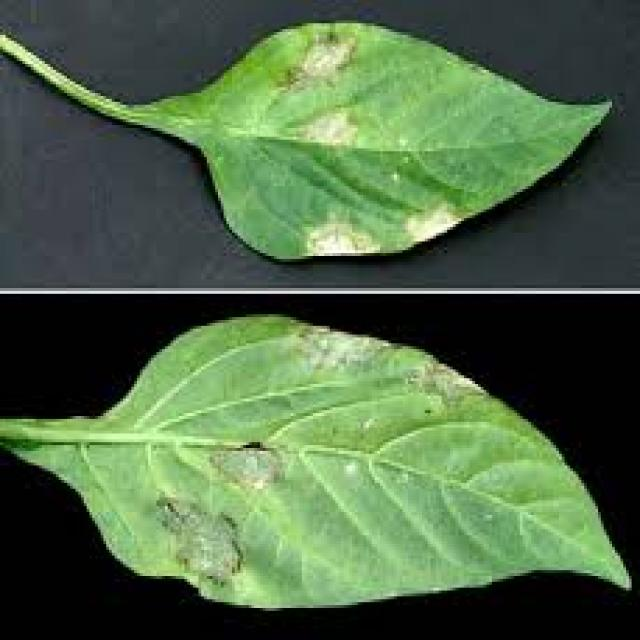bercak_daun: (160, 20, 618, 258)
